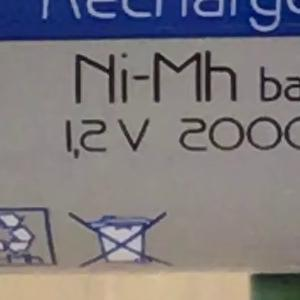NI-MH: (65, 40, 247, 114)
